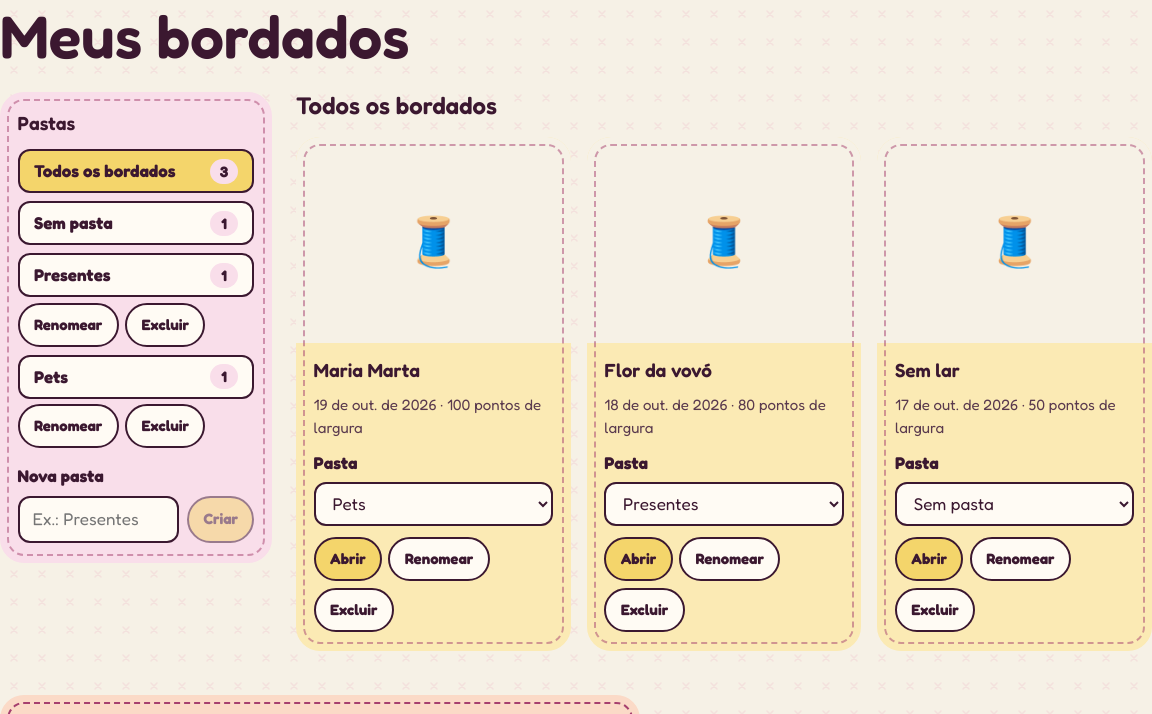
Test: LibraryPage › explains a duplicate folder name
This screenshot has width=1152, height=714.
Expected: the heading "Maria Marta" is shown, x1=314 y1=358 x2=420 y2=381
Type "Pets" into the field labelled "Nova pasta" at (98, 519), box x1=18 y1=496 x2=179 y2=543
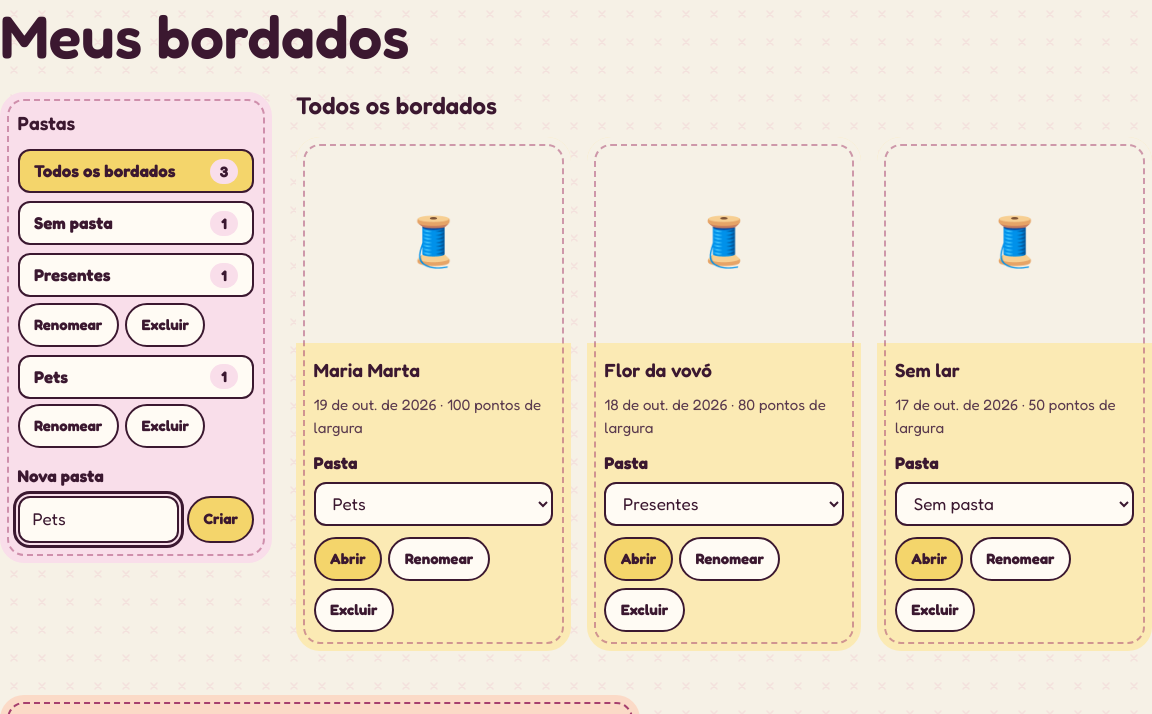
Click the button "Criar" at (221, 519), box x1=187 y1=496 x2=254 y2=543
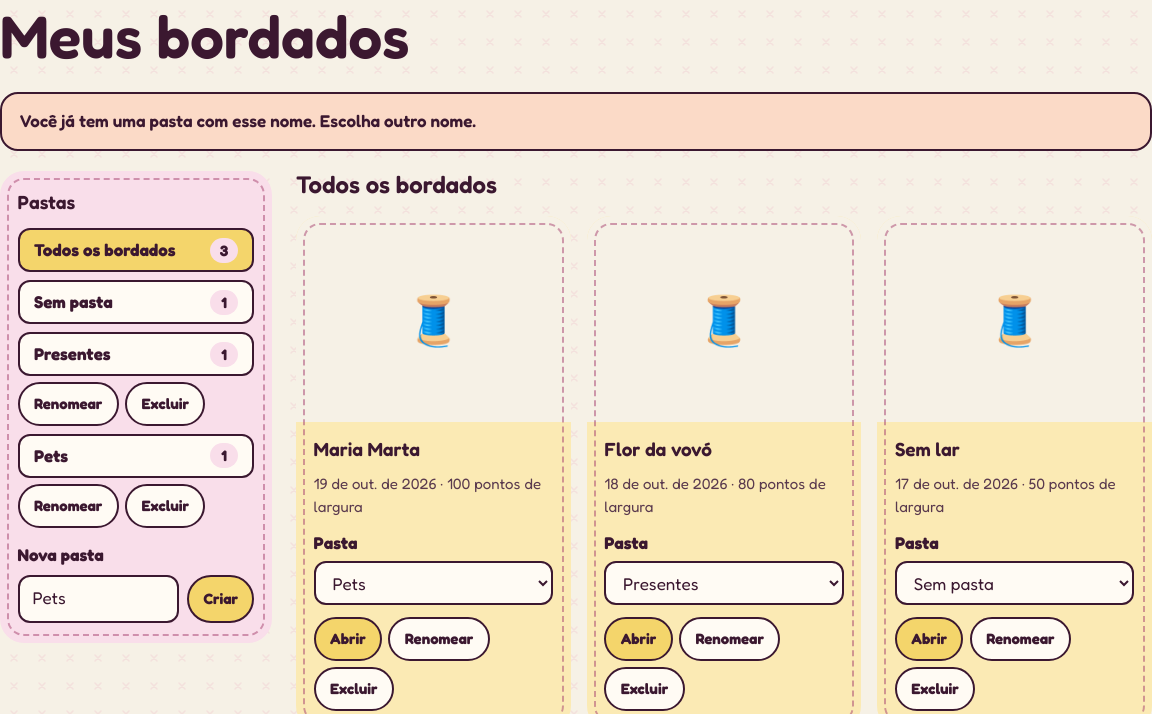
Expected: the message shows "já tem uma pasta com esse nome", x1=20 y1=110 x2=476 y2=131
